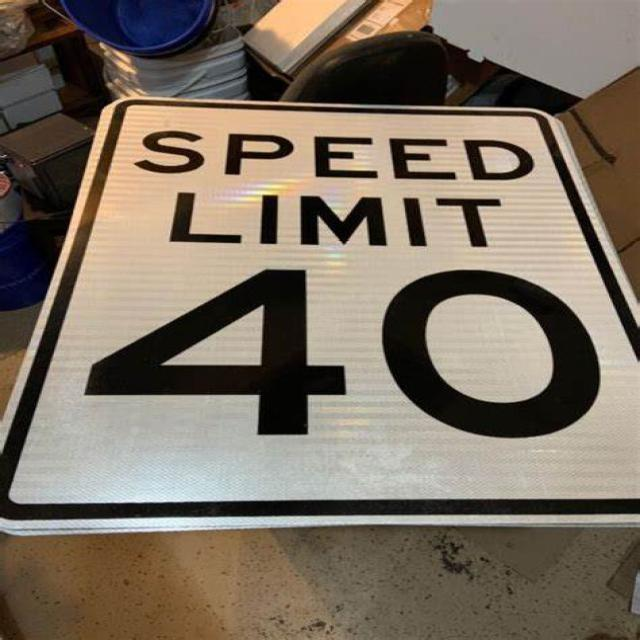speedLimit40: (6, 98, 637, 510)
